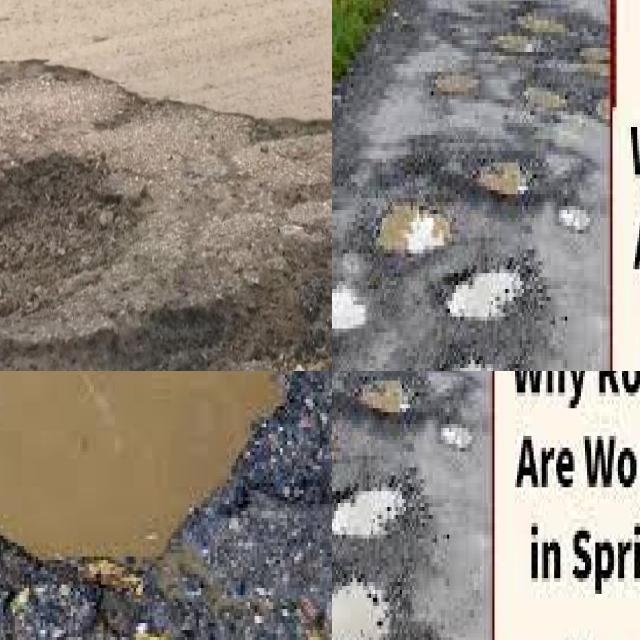Pothole: (0, 61, 332, 371), (0, 63, 332, 371), (493, 1, 569, 56), (332, 582, 400, 640), (452, 269, 518, 325), (334, 487, 400, 543), (479, 163, 522, 198), (380, 206, 415, 249), (361, 381, 404, 416), (524, 84, 567, 111), (431, 76, 479, 99), (584, 48, 608, 72)
